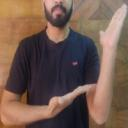hand: (47, 83, 97, 117), (99, 4, 128, 45)
